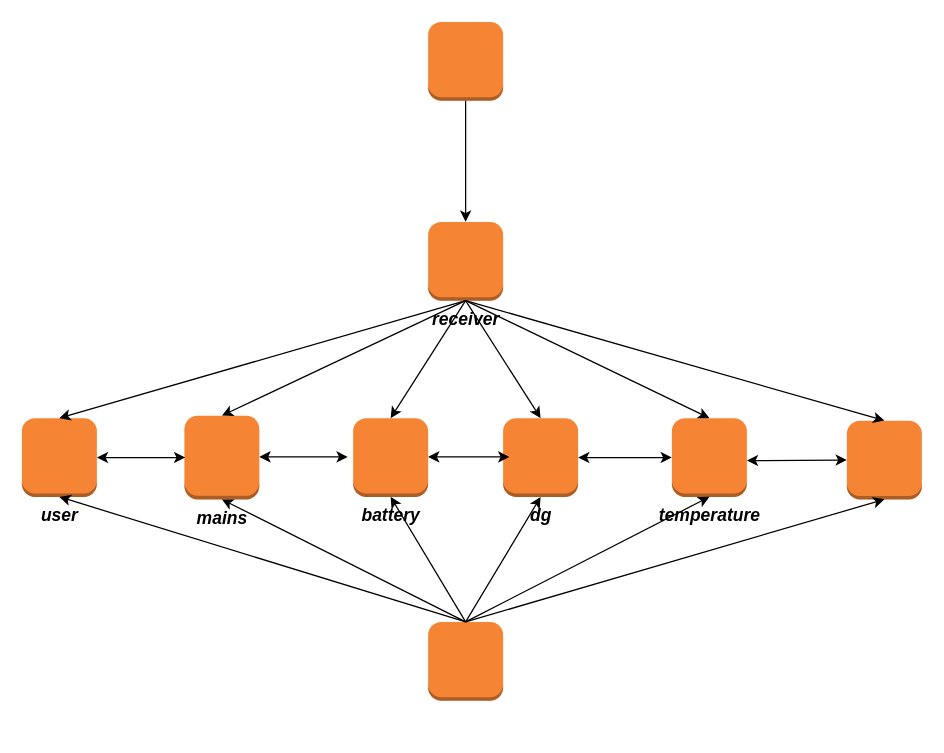
The diagram is 944 pixels wide and 753 high, and some of its shapes have lost their labels. Each missing label, with the centre of its shape:
"door" goes at point (884, 459).
"lib" goes at point (465, 661).
"myradar" goes at point (465, 61).
